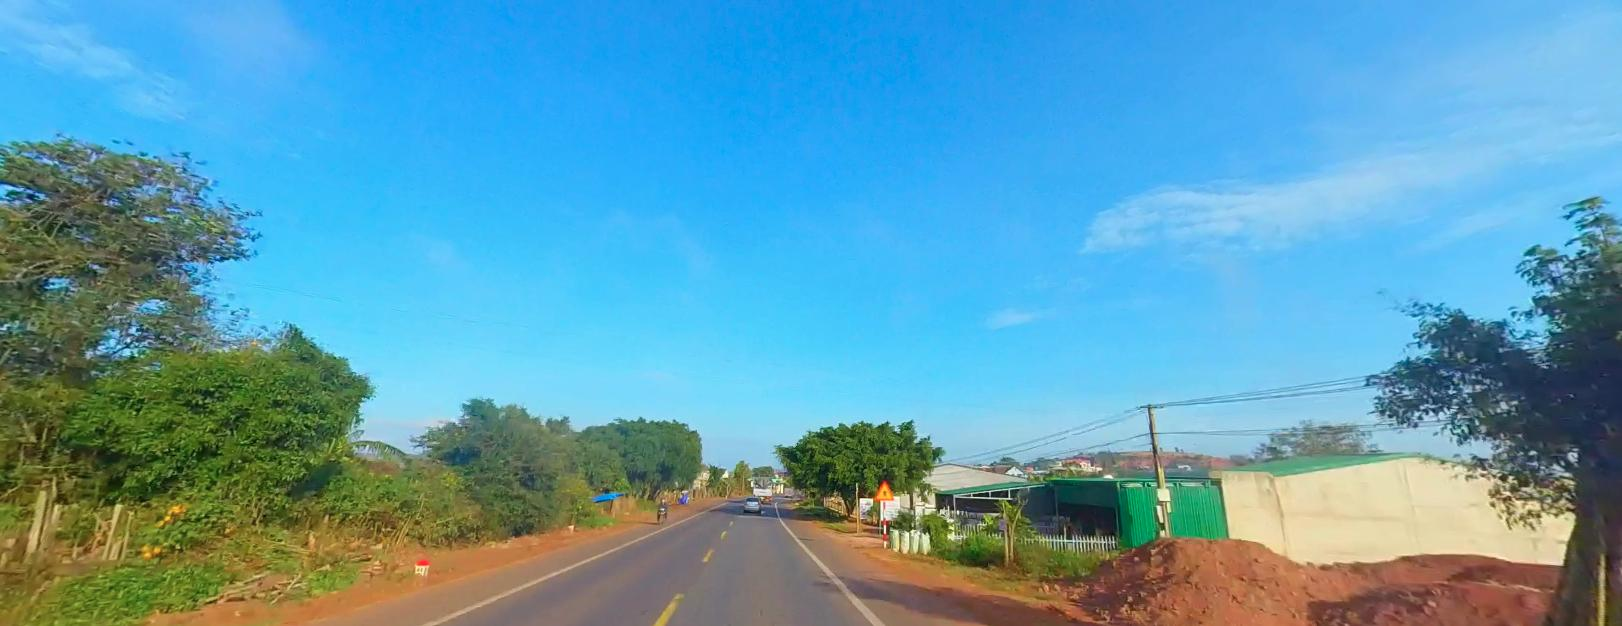Nguy hiem: (873, 479, 893, 499)
